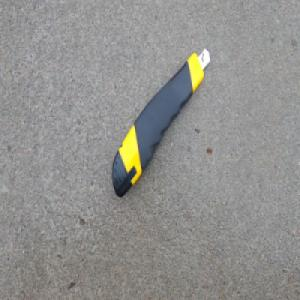Cutter: (111, 45, 210, 199)
